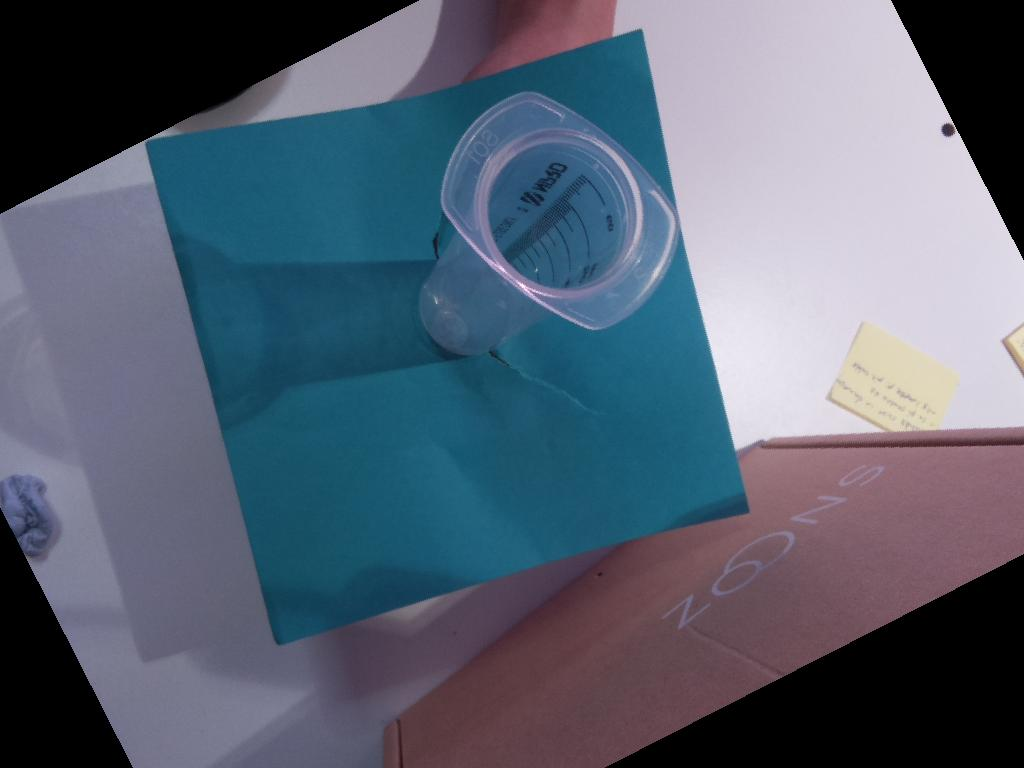clean: (438, 89, 683, 332)
